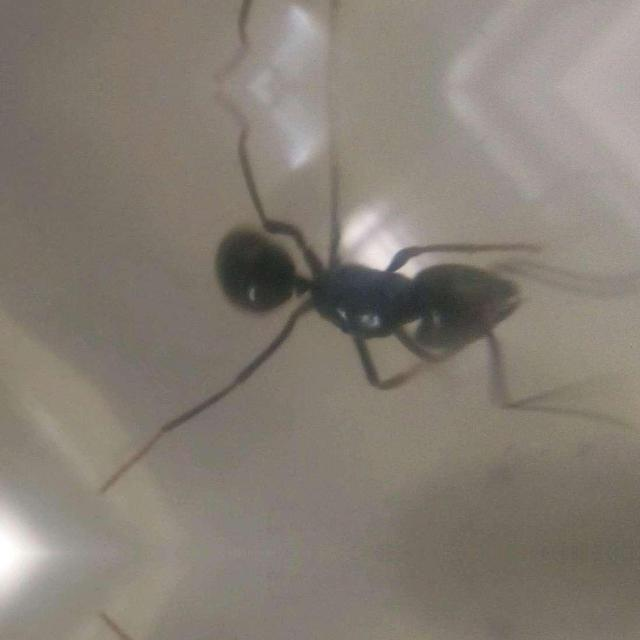Lasius: (163, 170, 533, 398)
